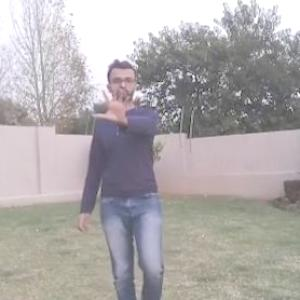follow_hand: (91, 78, 138, 126)
